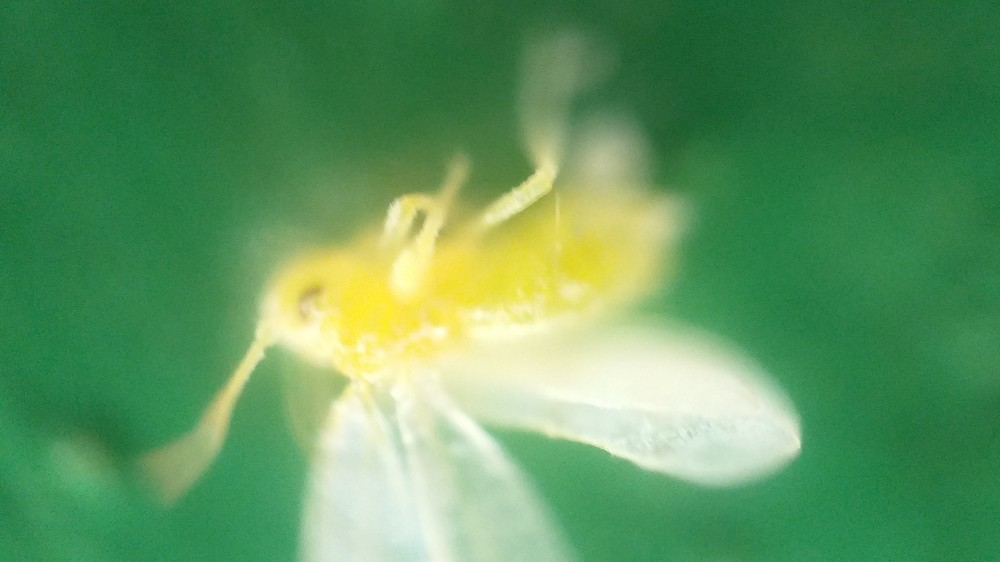Mosca Blanca: (158, 48, 812, 562)
